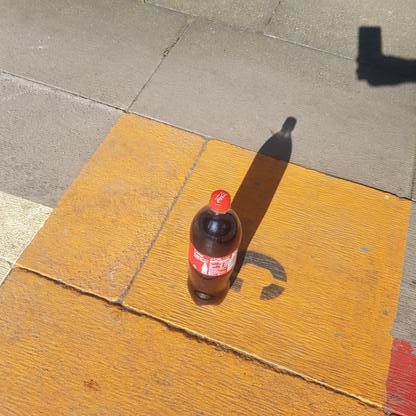coca-cola: (185, 187, 244, 311)
